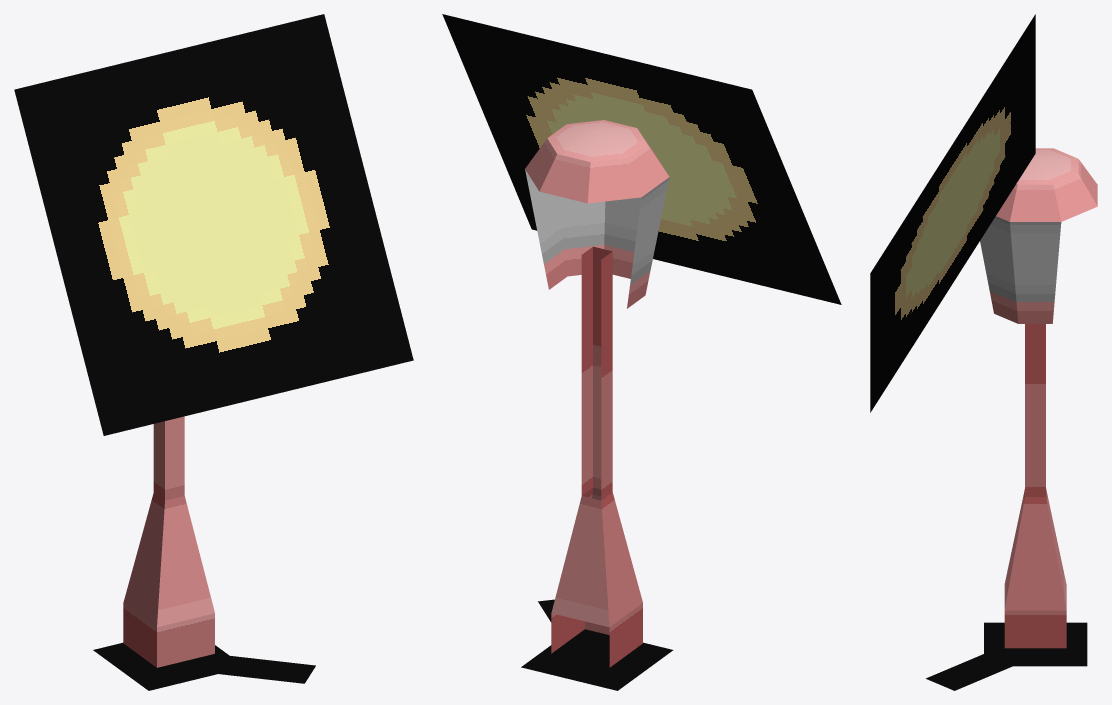
Rendered from Fuchsia City Street Lamp.obj.
The picture shows the model from 3 angles, left to right: view 1: azimuth 30°, elevation 25°; view 2: azimuth 150°, elevation 25°; view 3: azimuth 270°, elevation 25°; orthographic projection. The views are drawn at different scales.
Parts seen in each view (by area): view 1: polygon3, polygon2, polygon0; view 2: polygon3, polygon2, polygon1, polygon0; view 3: polygon3, polygon2, polygon1, polygon0.
Part boxes in pixels (left/top/right/bottom): polygon3: left=14, top=14, right=413, bottom=435; polygon2: left=123, top=416, right=214, bottom=667; polygon0: left=93, top=642, right=315, bottom=690; polygon3: left=442, top=14, right=841, bottom=304; polygon2: left=525, top=120, right=669, bottom=667; polygon1: left=525, top=169, right=669, bottom=308; polygon0: left=521, top=599, right=673, bottom=690; polygon3: left=870, top=14, right=1035, bottom=412; polygon2: left=996, top=148, right=1097, bottom=648; polygon1: left=980, top=216, right=1061, bottom=323; polygon0: left=926, top=622, right=1087, bottom=690.
Size of the model in its own units: 32 by 59.86 by 22.02.
Materials: 4 (4 with a texture image).
